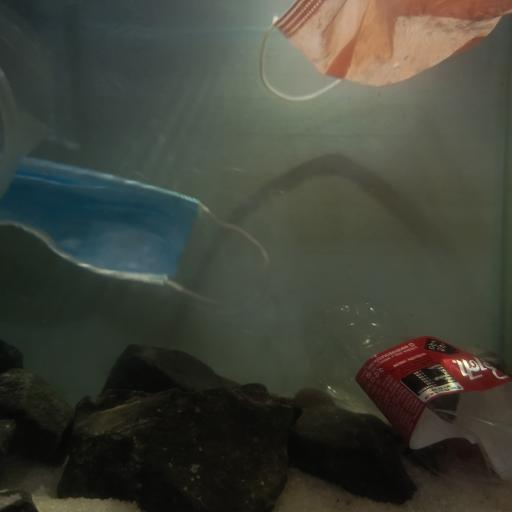mask: (3, 74, 274, 310), (261, 0, 512, 102)
plastic_bottle: (308, 295, 512, 477)
